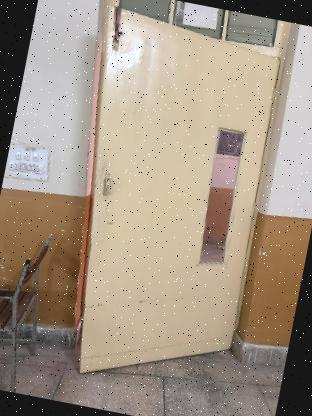door: (37, 0, 304, 408)
